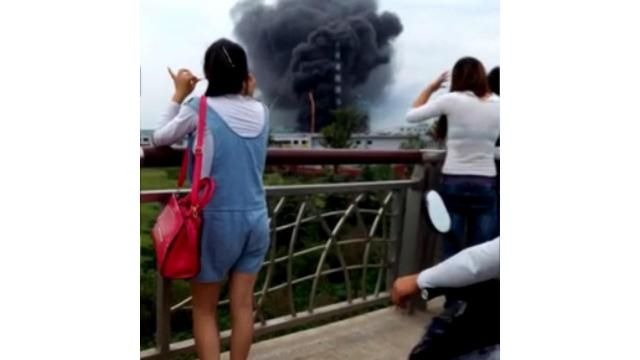smoke: (249, 46, 395, 90), (283, 1, 405, 43), (286, 93, 356, 129), (229, 1, 279, 42)
